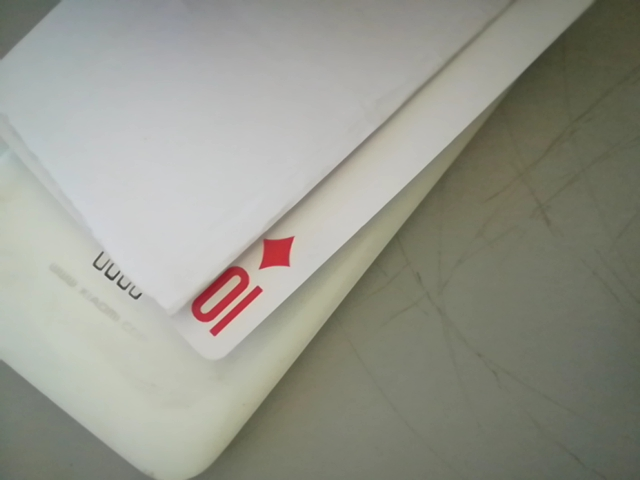fk 10: (176, 226, 311, 353)
